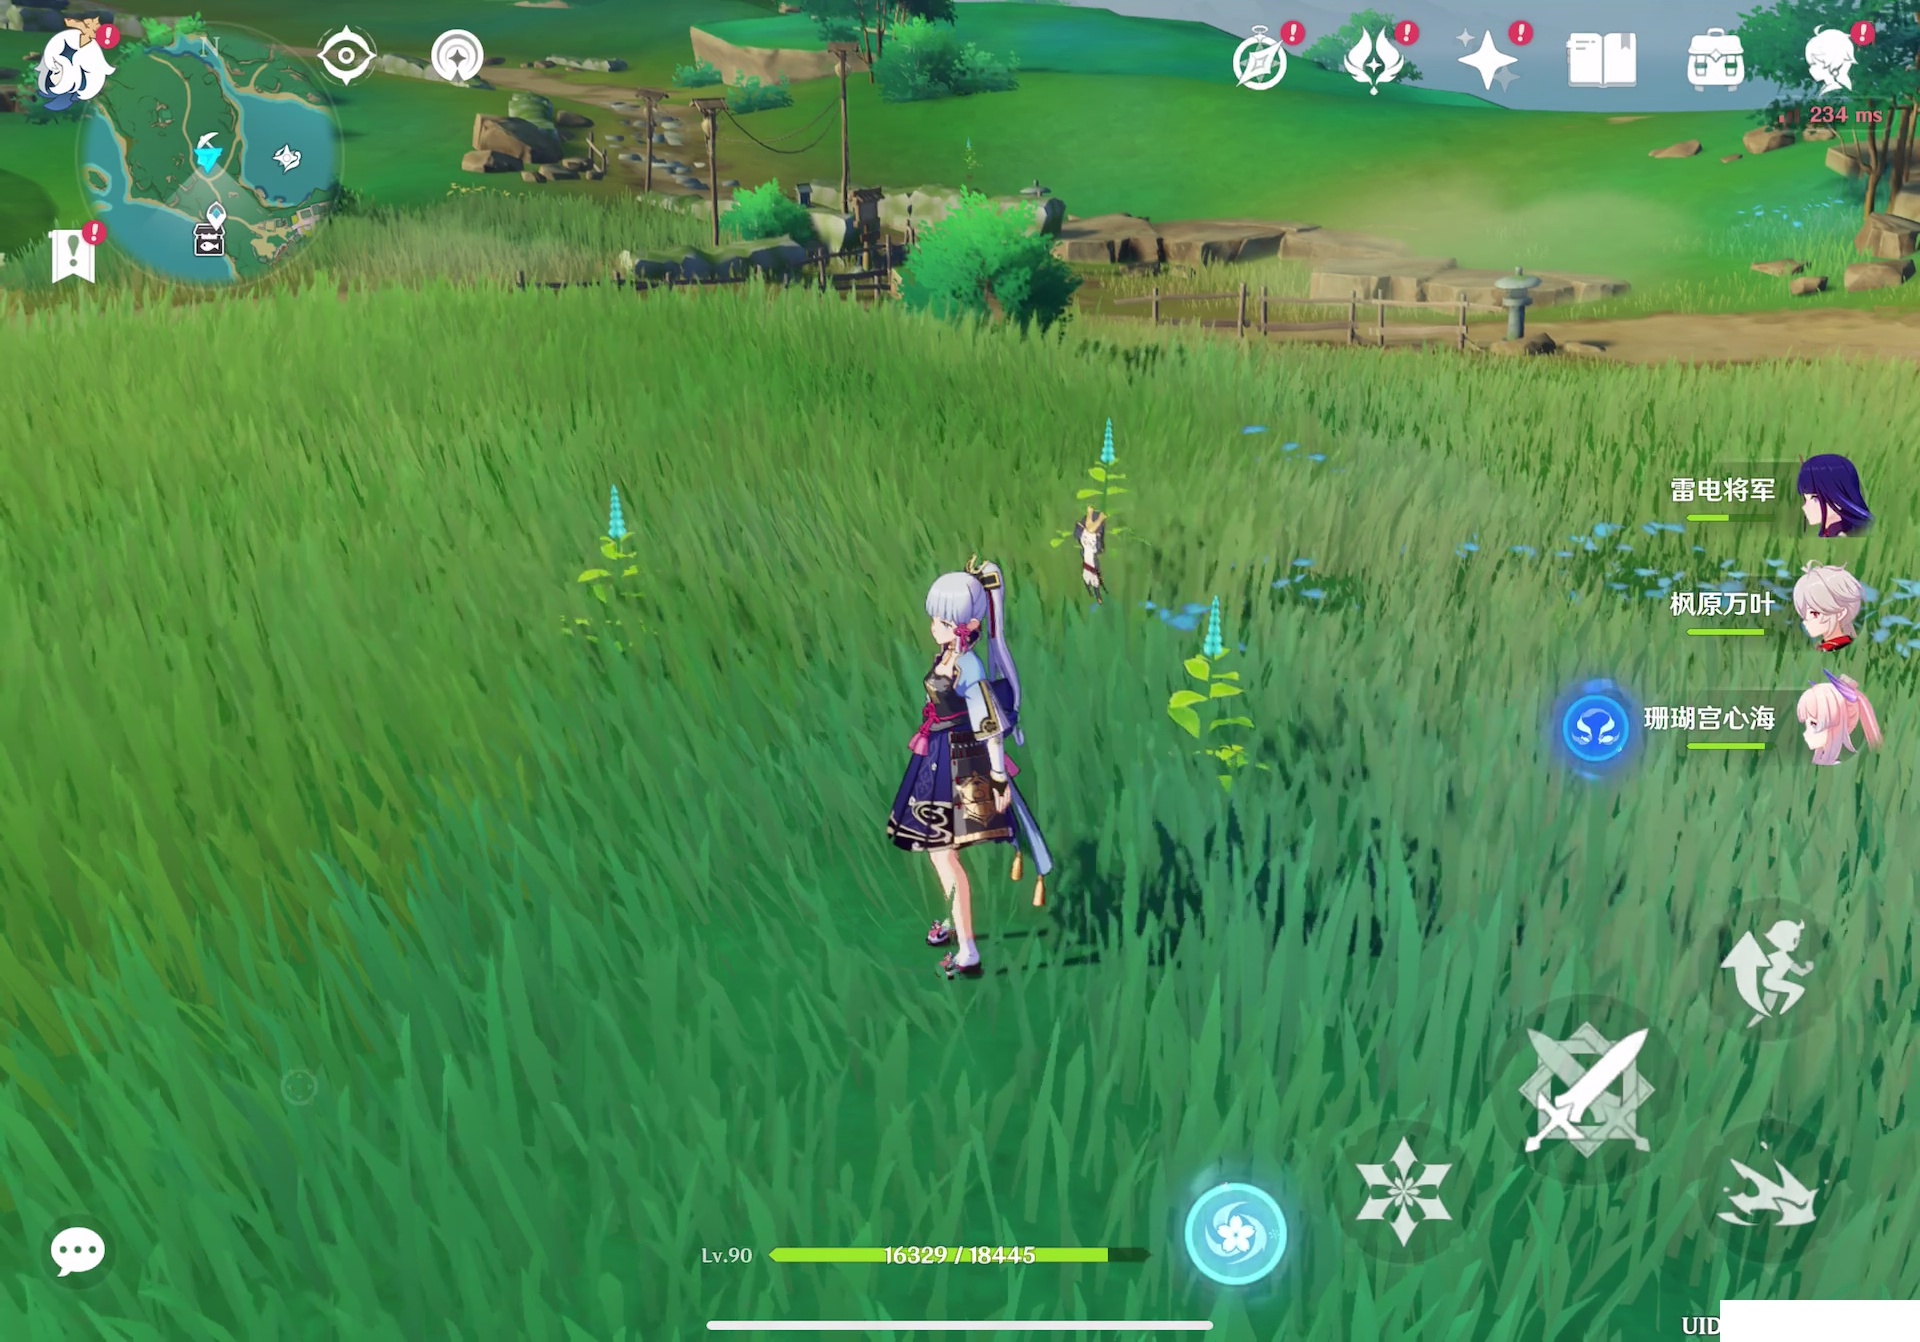没用的薄荷: (1169, 579, 1278, 804), (554, 478, 676, 670), (1062, 417, 1145, 511)
神里绫龟: (875, 544, 1067, 996)
